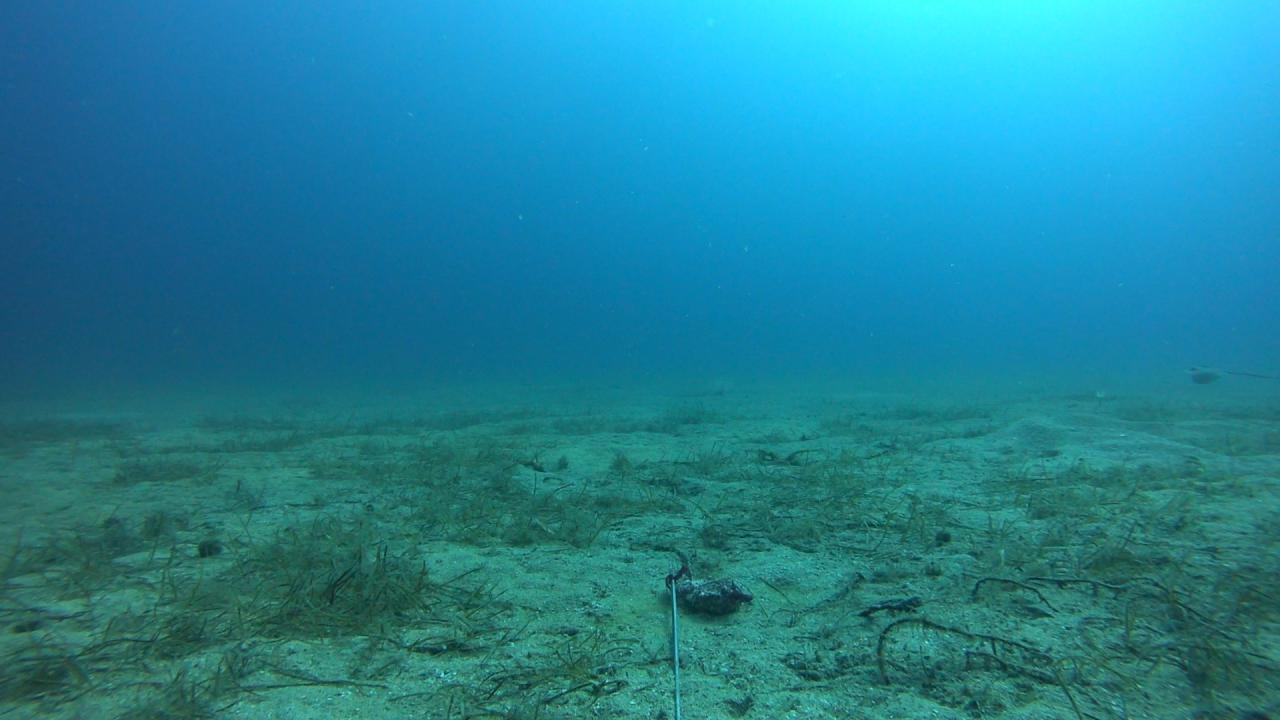dasyatis: (1186, 362, 1280, 386)
